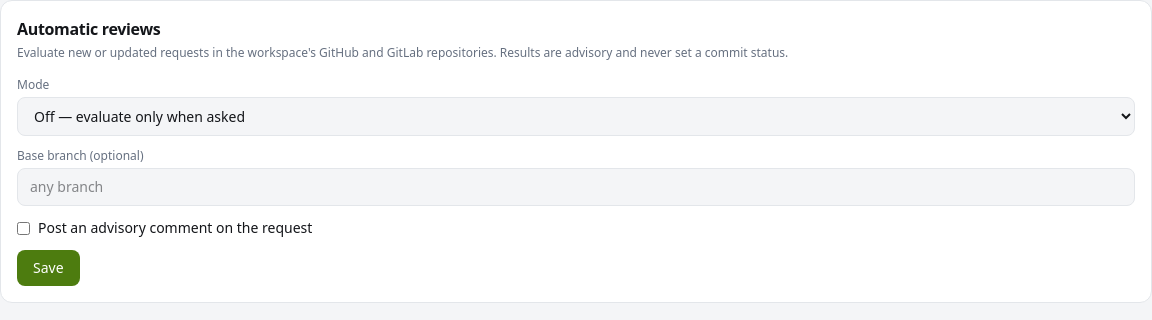
Test case: CiSettingsPanel › saves only the CI settings, leaving other cached listings alone
This screenshot has width=1152, height=320.
expect the dropdown is shown: met, box [17,97,1135,136]
Click the button "Save". click: point(48, 268)
box: [17,250,80,286]
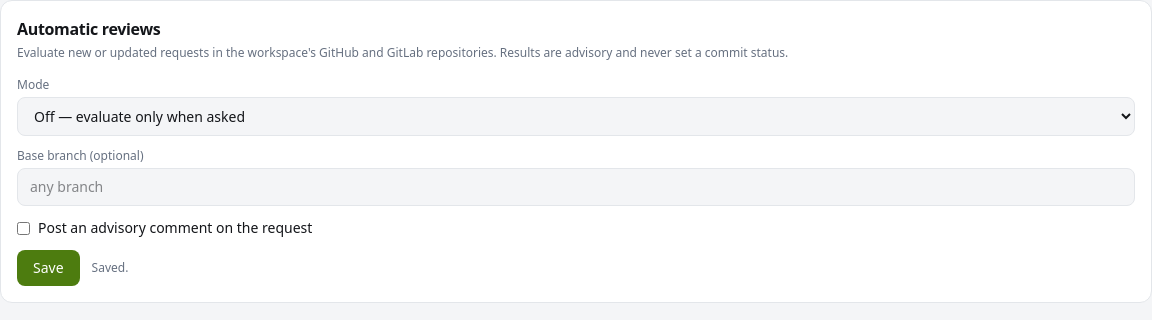
expect the text "Saved." is shown: met, box [92,260,128,276]
